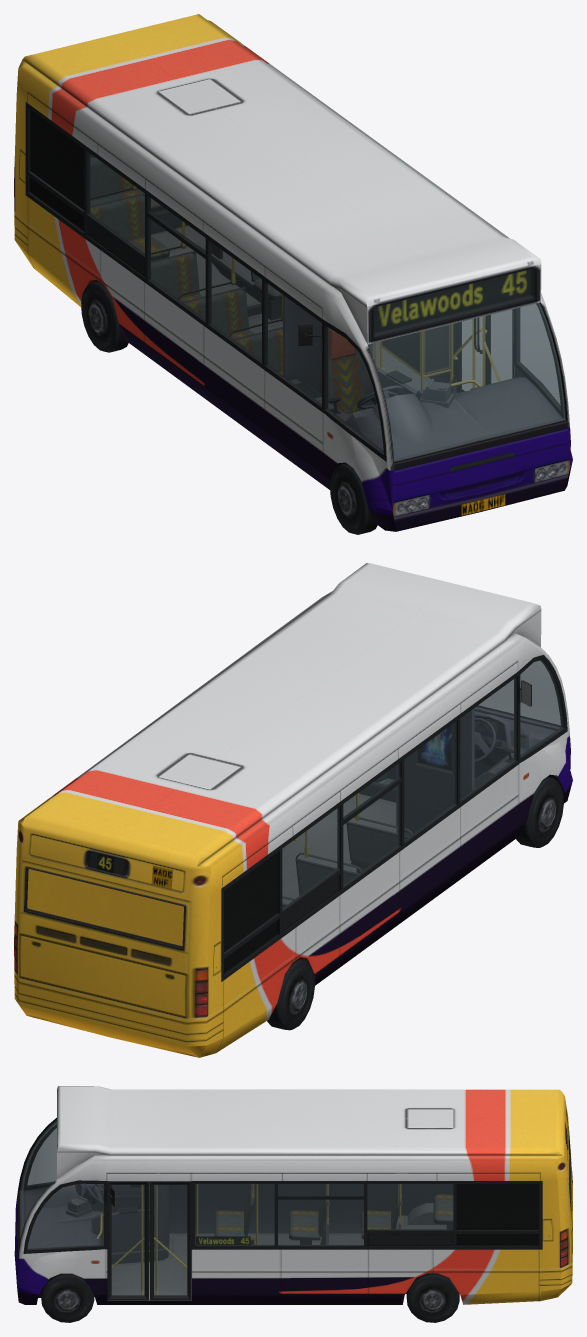
The model's file is MDLO_Bus_Small_OPT.FBX.
3 renders of one model, top to bottom at view 1: azimuth 30°, elevation 25°; view 2: azimuth 150°, elevation 25°; view 3: azimuth 270°, elevation 25°, orthographic. The views are drawn at different scales.
Parts seen in each view (by area): view 1: exterior, glass4, interior, cab, Exterior_dark_inside, Bus_Door_R_Glass (×2), polySurface453, polySurface423, Bus_Door_R2, Bus_Door_R; view 2: exterior, glass4, interior, cab, Exterior_dark_inside, polySurface453, polySurface423; view 3: exterior, glass4, interior, Bus_Door_R_Glass (×2), cab, Exterior_dark_inside, polySurface452, polySurface422, Bus_Door_R2, Bus_Door_R.
Part boxes in pixels (bbox=[...]): exterior: bbox=[14, 14, 572, 531]; glass4: bbox=[87, 152, 565, 461]; interior: bbox=[90, 154, 567, 463]; cab: bbox=[283, 295, 562, 459]; Exterior_dark_inside: bbox=[30, 110, 83, 209]; Bus_Door_R_Glass (×2): bbox=[461, 310, 511, 390]; polySurface453: bbox=[81, 281, 128, 352]; polySurface423: bbox=[330, 463, 377, 534]; Bus_Door_R2: bbox=[477, 309, 514, 385]; Bus_Door_R: bbox=[452, 318, 485, 392]; exterior: bbox=[14, 563, 572, 1057]; glass4: bbox=[282, 660, 564, 910]; interior: bbox=[282, 705, 560, 907]; cab: bbox=[359, 708, 555, 836]; Exterior_dark_inside: bbox=[224, 852, 277, 952]; polySurface453: bbox=[267, 959, 314, 1030]; polySurface423: bbox=[516, 776, 563, 847]; exterior: bbox=[14, 1086, 572, 1304]; glass4: bbox=[20, 1119, 453, 1249]; interior: bbox=[18, 1117, 453, 1300]; Bus_Door_R_Glass (×2): bbox=[111, 1184, 187, 1295]; cab: bbox=[24, 1181, 169, 1264]; Exterior_dark_inside: bbox=[456, 1184, 538, 1229]; polySurface452: bbox=[406, 1273, 459, 1322]; polySurface422: bbox=[41, 1273, 94, 1322]; Bus_Door_R2: bbox=[107, 1181, 148, 1300]; Bus_Door_R: bbox=[150, 1181, 191, 1300].
Bounding box in the file's own units: 288 × 278 × 813.
2 materials, 1 textured.
